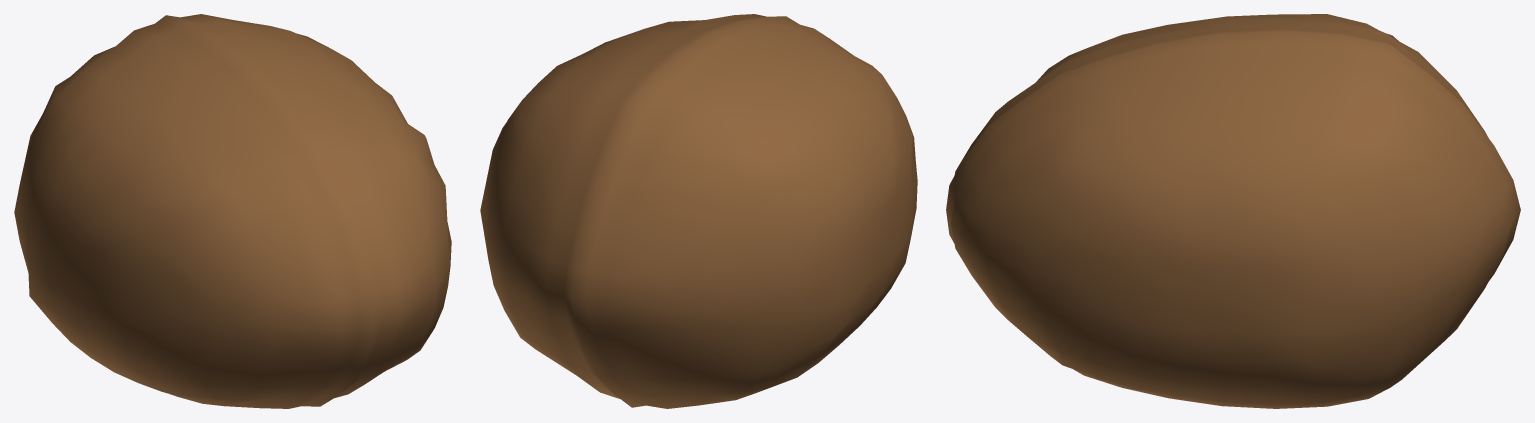
The model's file is Walnut.fbx.
3 renders of one model, left to right at view 1: azimuth 30°, elevation 25°; view 2: azimuth 150°, elevation 25°; view 3: azimuth 270°, elevation 25°, orthographic. The views are drawn at different scales.
Parts seen in each view (by area): view 1: Walnut_LOD0; view 2: Walnut_LOD0; view 3: Walnut_LOD0.
Boxes of the visible parts, x1,y1,x2,y2 form: Walnut_LOD0: (14,14,451,408); Walnut_LOD0: (480,14,917,408); Walnut_LOD0: (946,14,1520,408).
Size of what is drawn, in the model's own units: 3.39 by 3.04 by 4.44.
